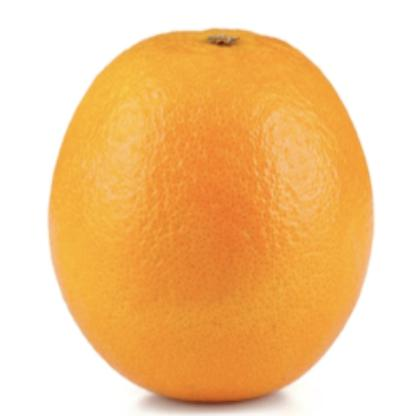fresh: (51, 30, 374, 407)
